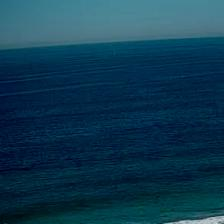surfer: (156, 195, 160, 198), (4, 221, 8, 223)
